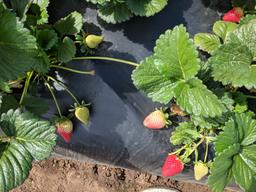green strawberry: (143, 109, 169, 129), (74, 105, 90, 125), (194, 161, 209, 180), (85, 34, 104, 47)
red strawberry: (162, 153, 184, 177), (55, 119, 74, 144), (222, 6, 243, 23)
